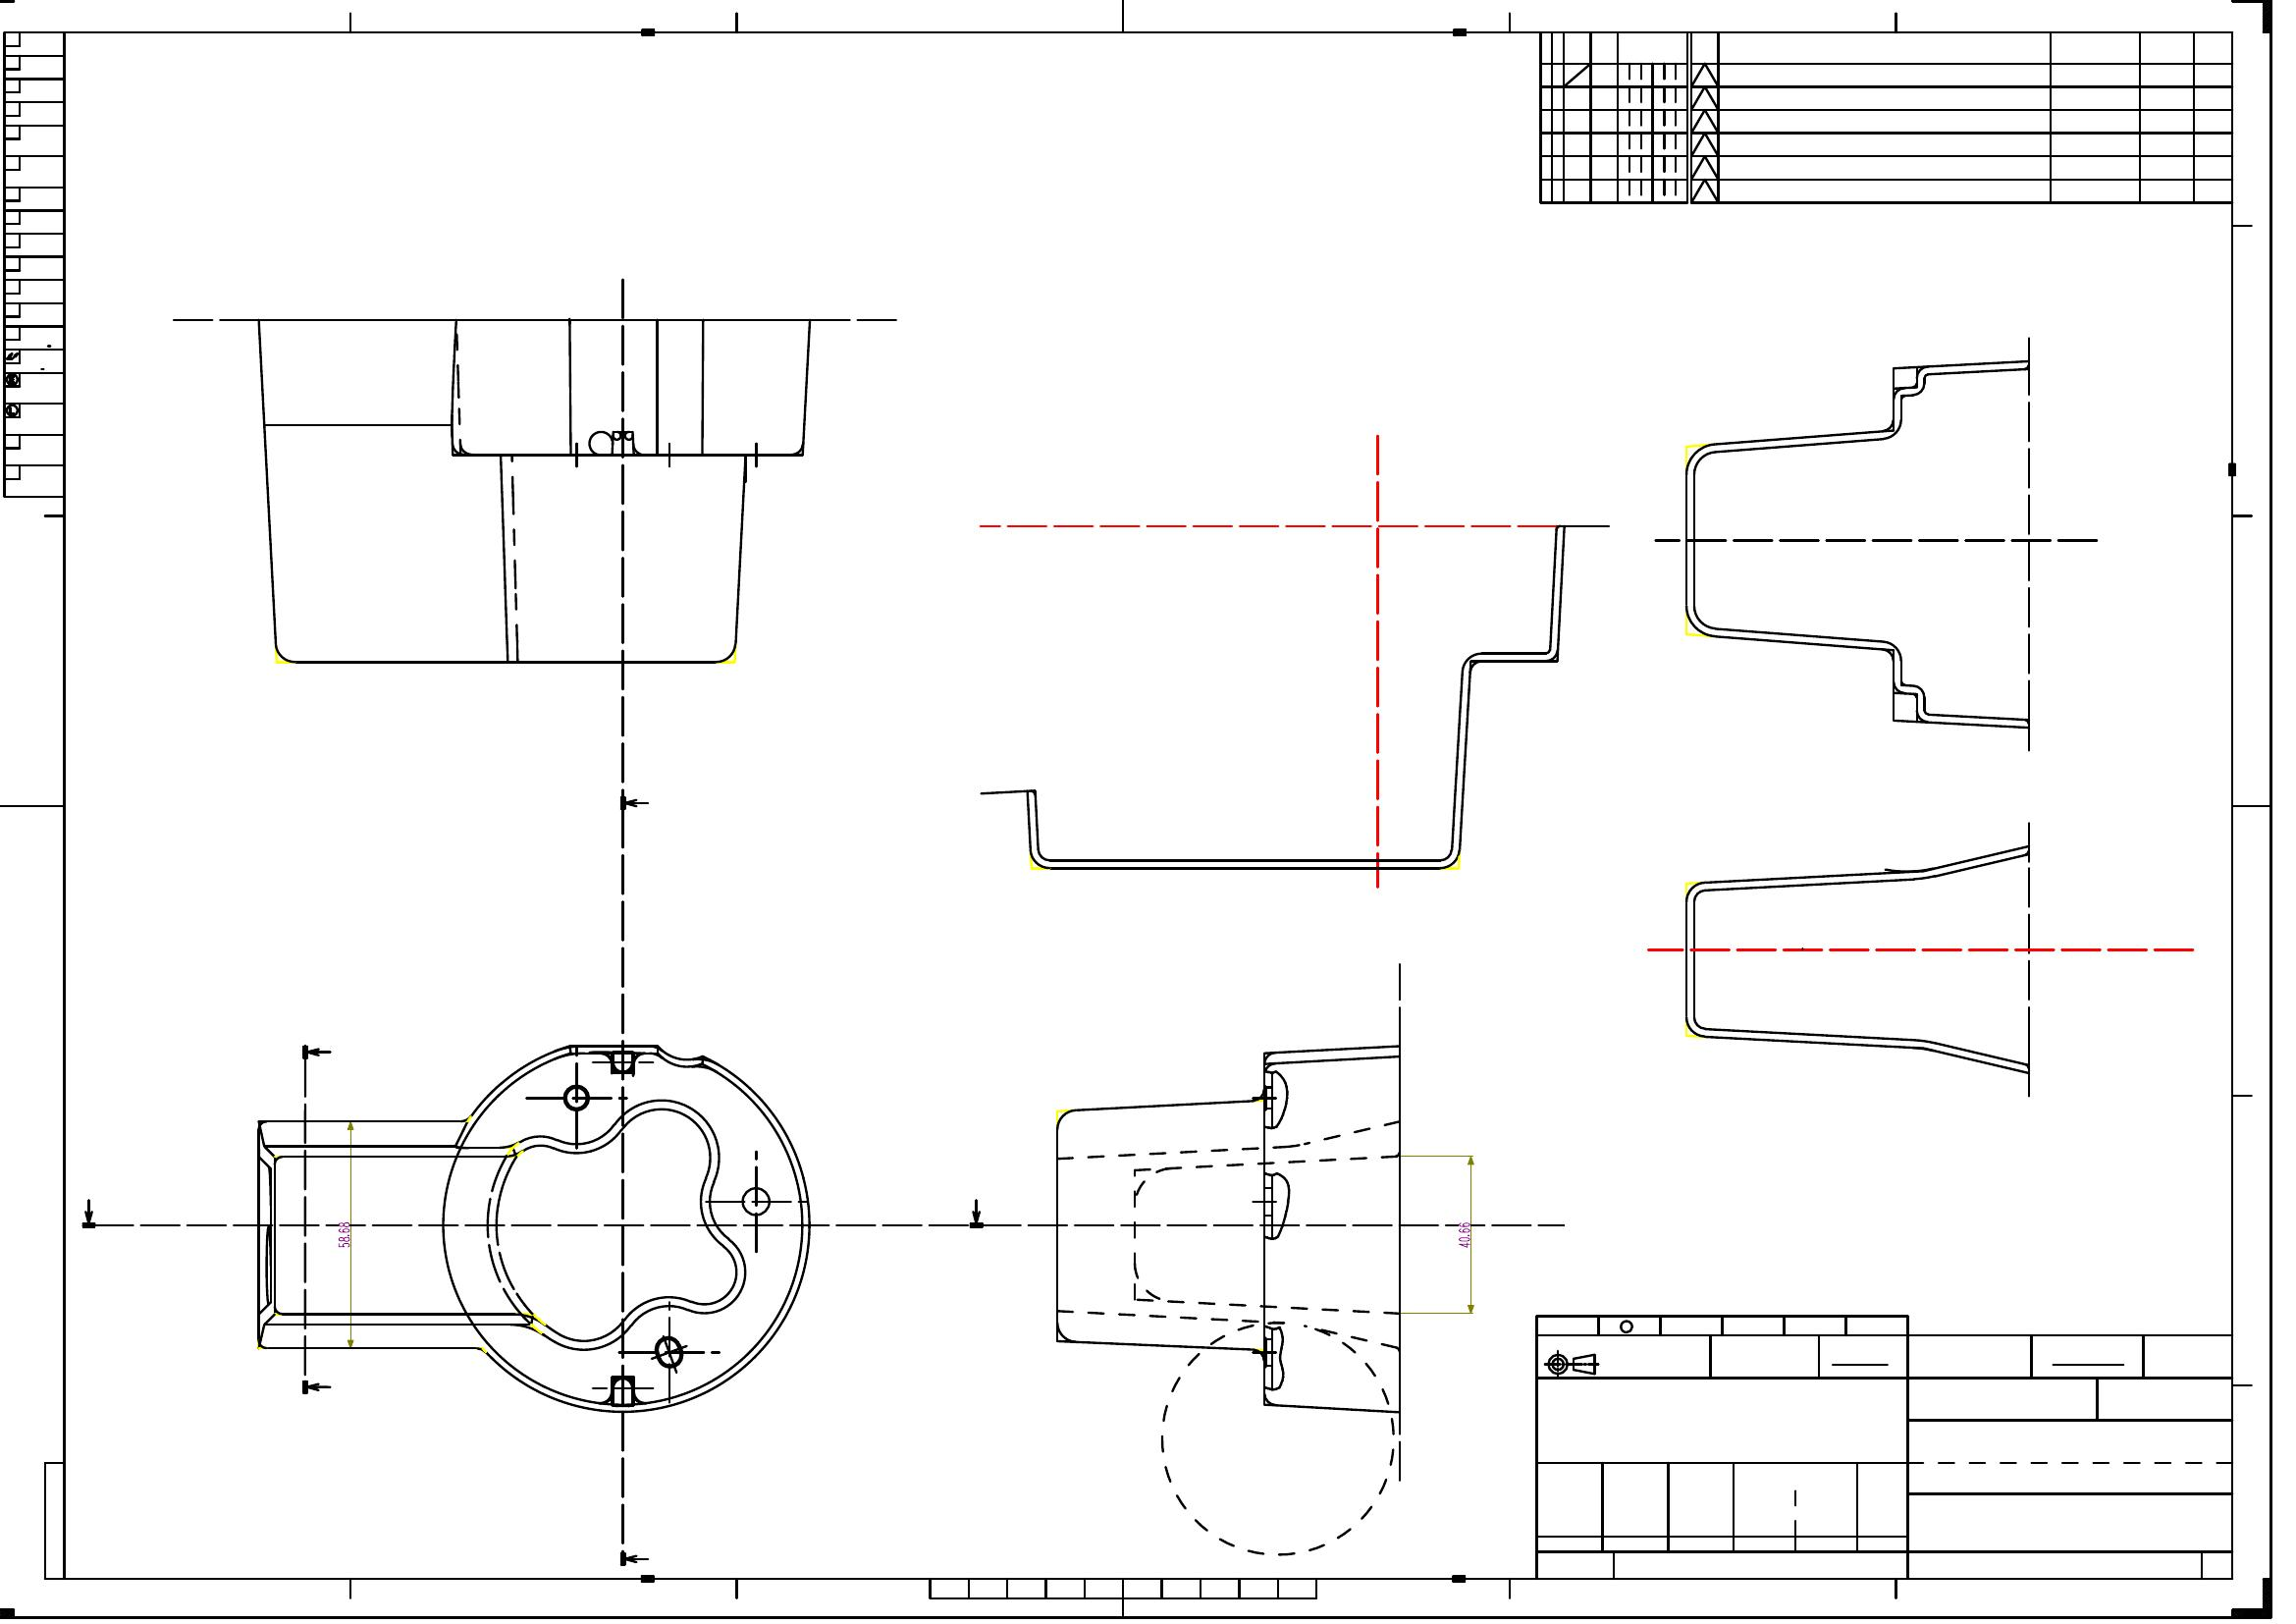dimension_text: (1458, 1220, 1470, 1246), (337, 1220, 350, 1246)
object: (260, 1044, 812, 1411), (256, 320, 808, 663), (1024, 526, 1565, 868), (1054, 1044, 1400, 1415), (1685, 359, 2027, 729), (1685, 847, 2031, 1074)
title_block: (1535, 1313, 2233, 1577), (1541, 33, 2233, 202), (4, 32, 61, 497)
